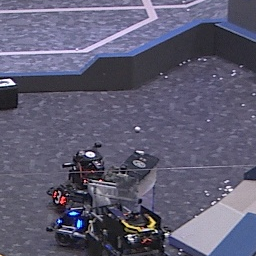Red: (52, 188, 66, 207)
Robot: (55, 152, 171, 256), (46, 143, 112, 212)
